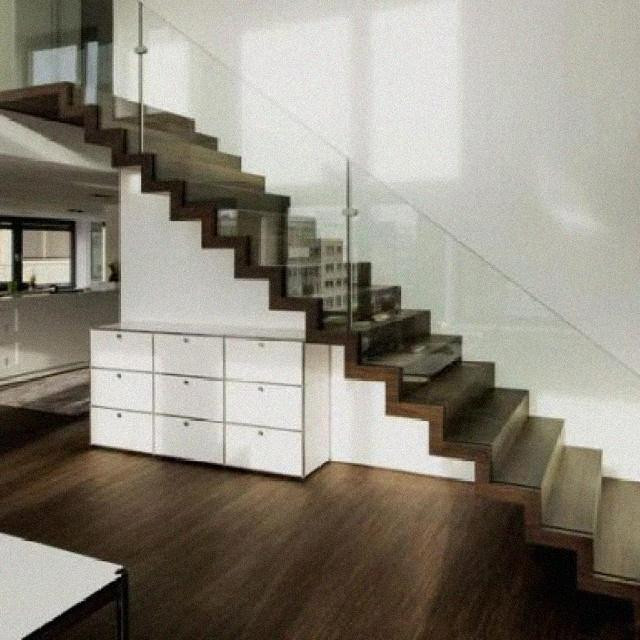stair: (1, 21, 640, 638)
